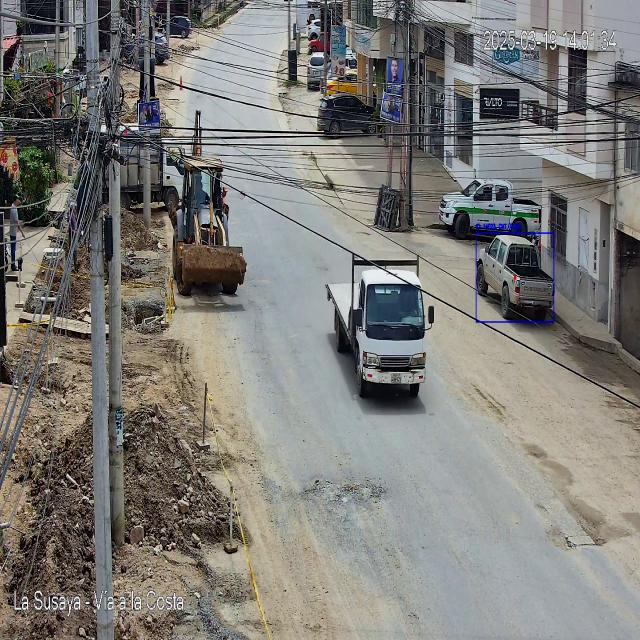TRUCK: (328, 260, 428, 401)
